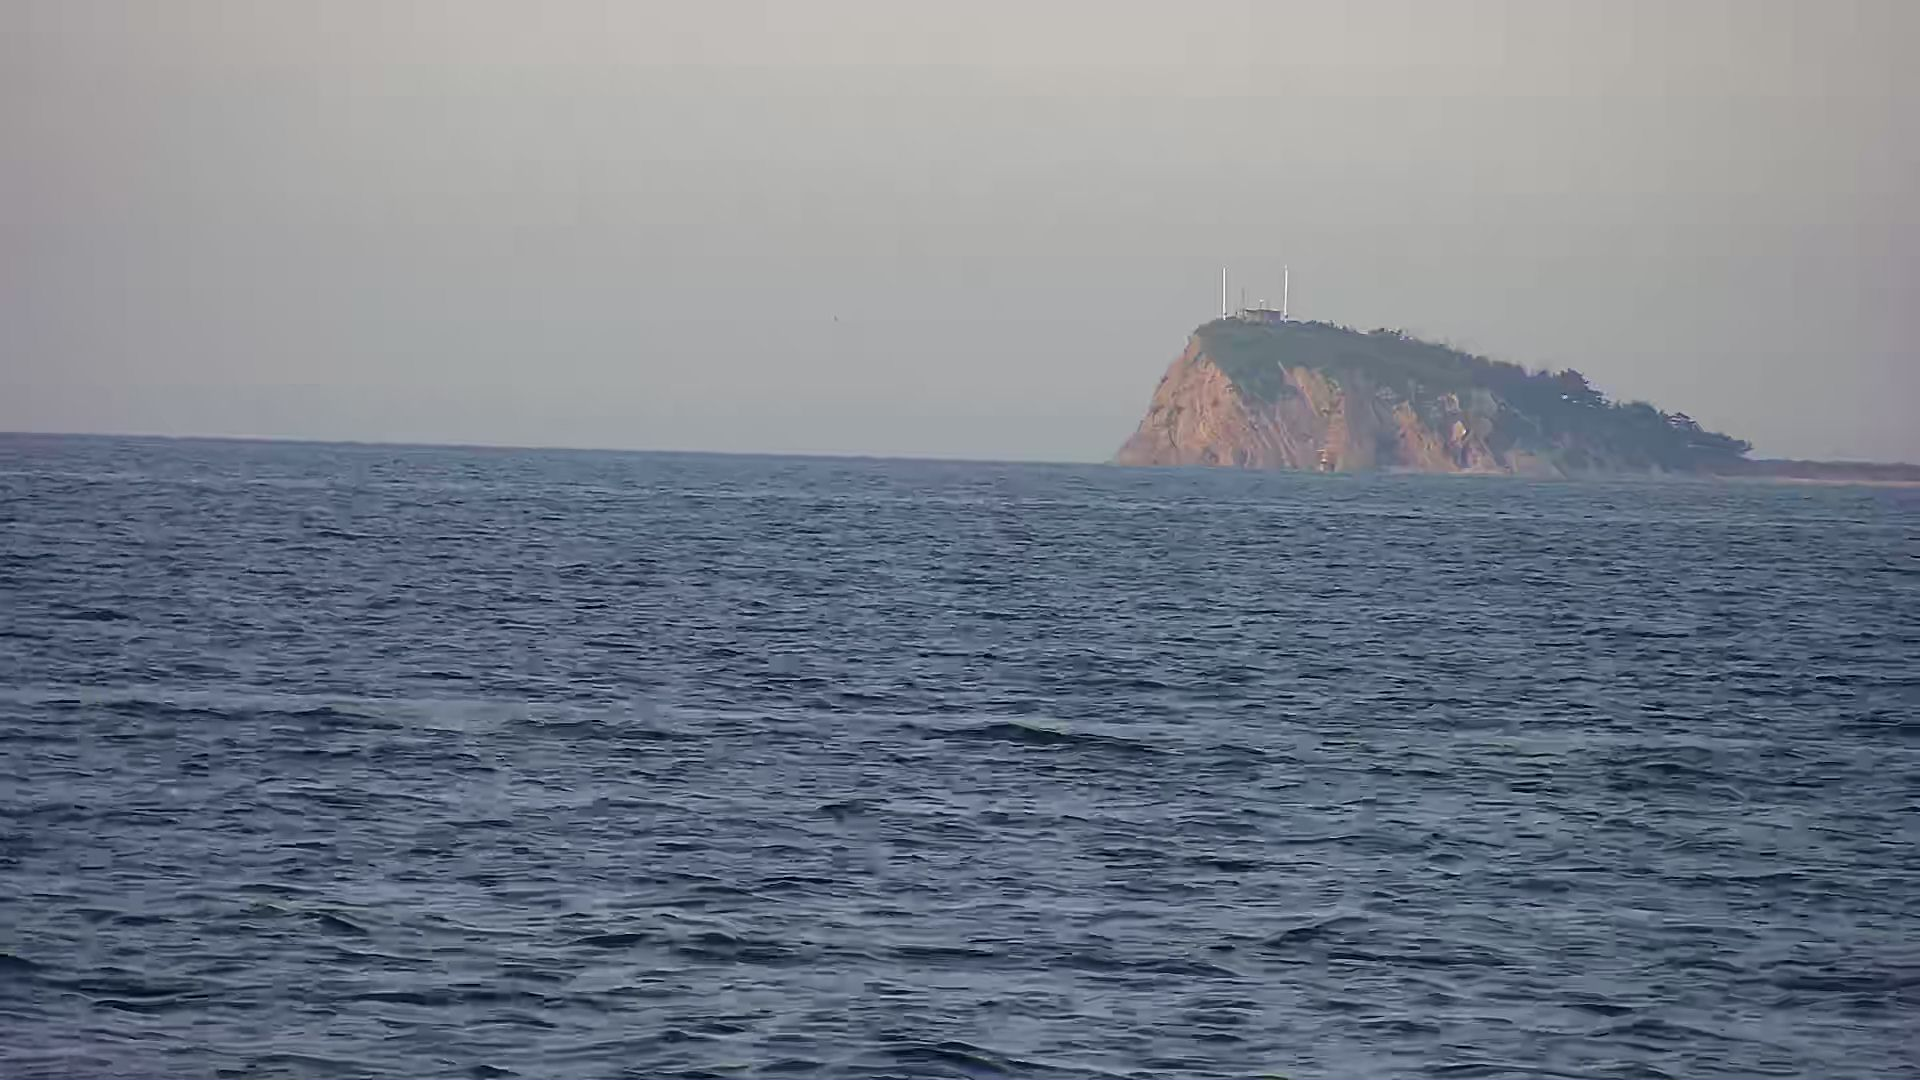rock: (1100, 294, 1753, 504)
